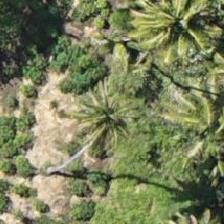coconut_tree: (133, 0, 223, 60)
